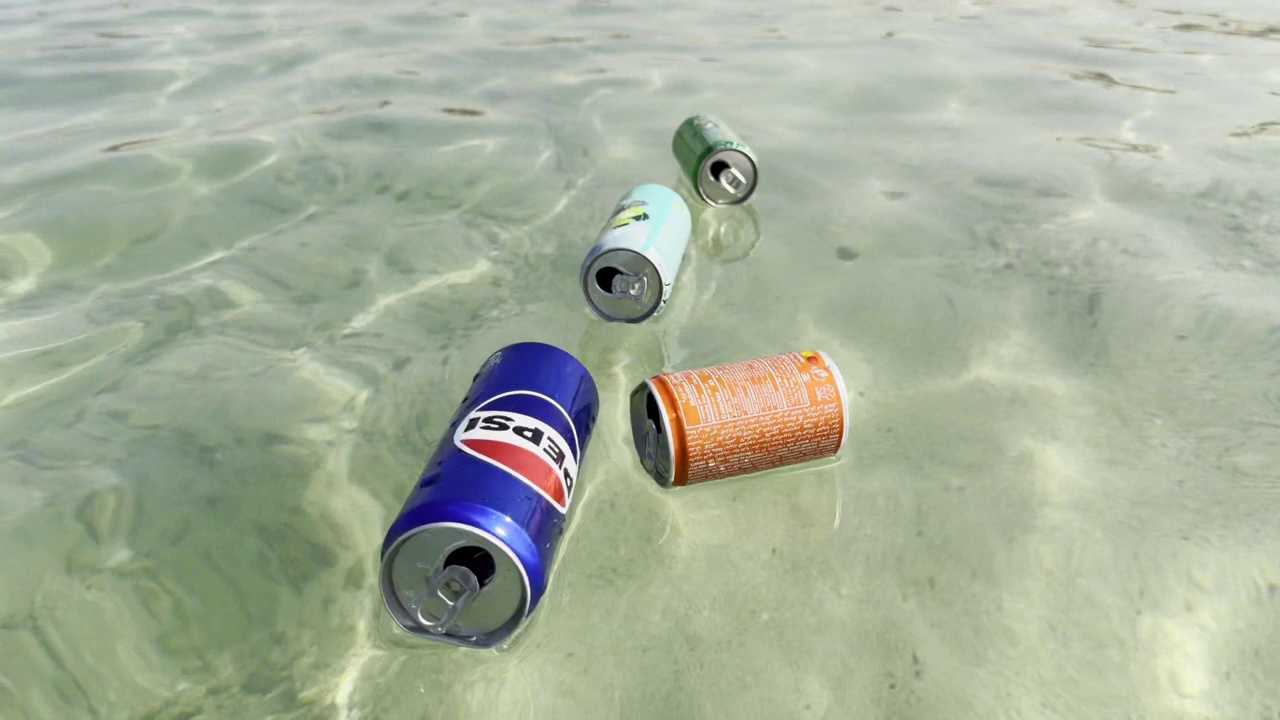debris: (366, 313, 605, 659), (613, 331, 857, 494), (567, 166, 702, 330), (664, 105, 762, 215)
